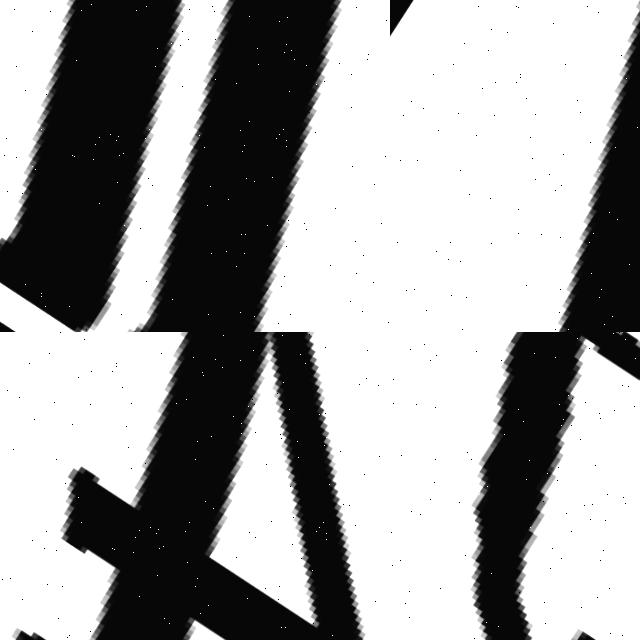F: (457, 332, 640, 640)
H: (118, 0, 335, 332), (0, 0, 175, 332)
I: (390, 0, 640, 332)
